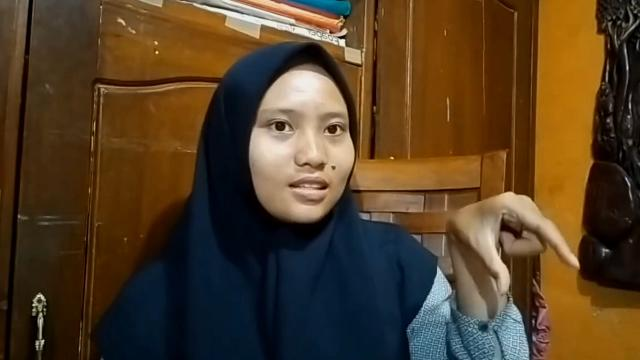Q: (445, 187, 587, 294)
